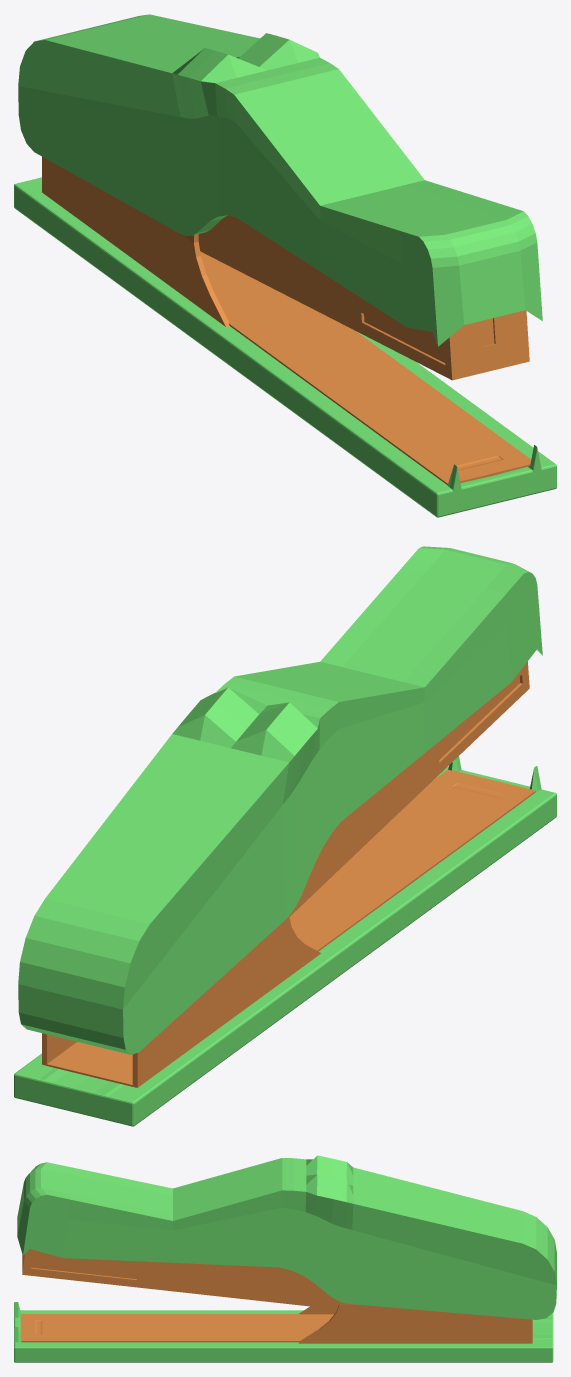
Rendered from Stapler.fbx.
3 renders of one model, top to bottom at view 1: azimuth 30°, elevation 25°; view 2: azimuth 150°, elevation 25°; view 3: azimuth 270°, elevation 25°, orthographic. The views are drawn at different scales.
Visible parts, largest first — view 1: Stapler_Top, Stapler_Base, PinBender, PinBox, StaplerHinge; view 2: Stapler_Top, Stapler_Base, PinBender, StaplerHinge, PinBox; view 3: Stapler_Top, Stapler_Base, PinBox, PinBender, StaplerHinge.
Boxes of the visible parts, x1,y1,x2,y2 form: Stapler_Top: [18, 14, 542, 346]; Stapler_Base: [14, 177, 556, 517]; PinBender: [200, 251, 531, 484]; PinBox: [198, 215, 529, 380]; StaplerHinge: [42, 156, 229, 326]; Stapler_Top: [18, 546, 542, 1054]; Stapler_Base: [14, 756, 556, 1126]; PinBender: [46, 769, 535, 1086]; StaplerHinge: [42, 916, 321, 1087]; PinBox: [289, 661, 529, 916]; Stapler_Top: [17, 1155, 556, 1319]; Stapler_Base: [14, 1302, 553, 1362]; PinBox: [22, 1249, 339, 1309]; PinBender: [20, 1314, 333, 1342]; StaplerHinge: [298, 1301, 532, 1343].
Size of the model in its own units: 98.78 by 221 by 606.
